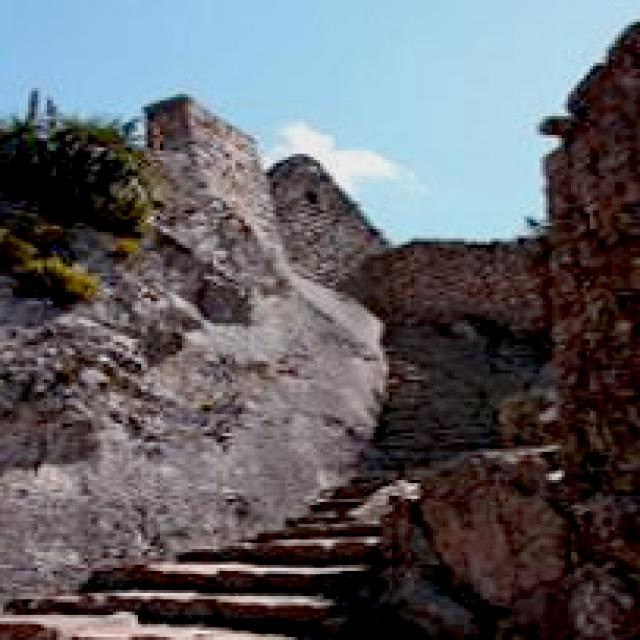upstair: (45, 443, 396, 640)
